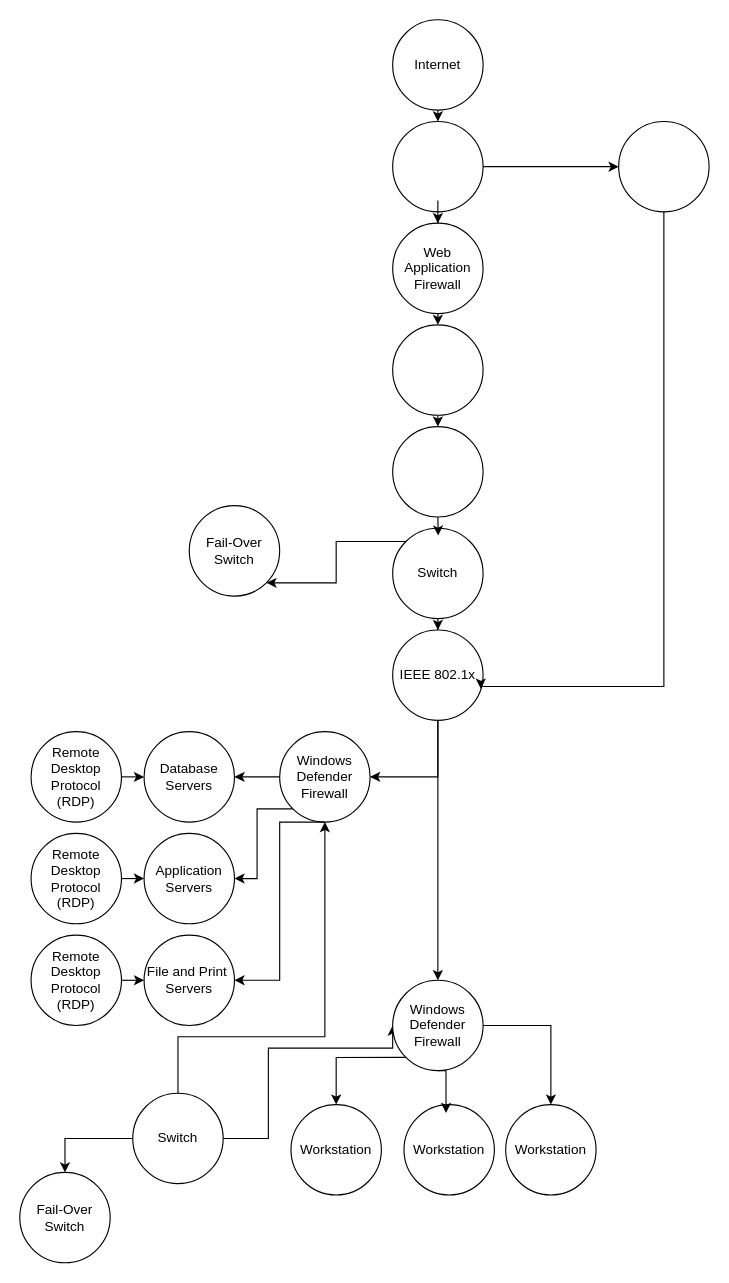
Image size: 729x1283. Some labels were removed from this diagram. Each missing label, with the box of its shape:
Internal Firewall: (392, 425, 483, 517)
IPSec VPN Gateway: (618, 120, 709, 212)
Next-Generation Firewall: (392, 120, 483, 212)
Web Server: (392, 324, 483, 415)
